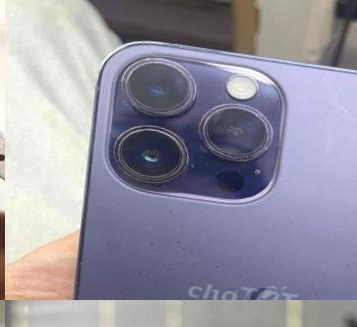scratch: (190, 93, 284, 171), (100, 116, 191, 188), (113, 53, 202, 123), (145, 205, 217, 291), (307, 72, 357, 164), (297, 272, 335, 300), (128, 262, 152, 291)
